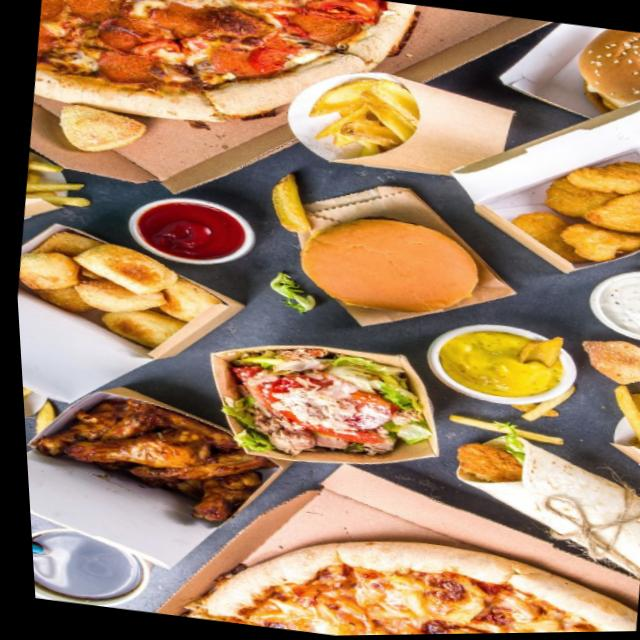burger: (286, 205, 486, 327), (565, 26, 640, 136)
pizza: (27, 0, 434, 156), (161, 506, 637, 638)
